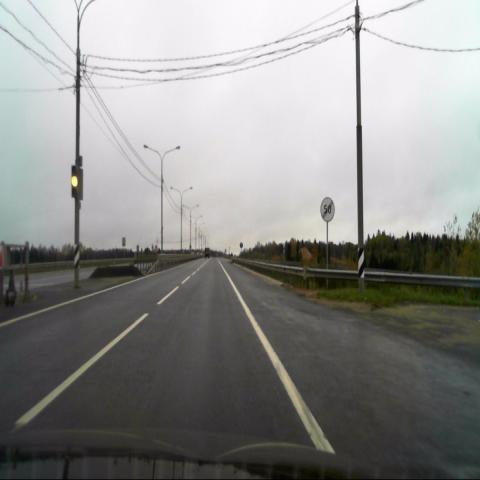3_25: (320, 197, 334, 222)
